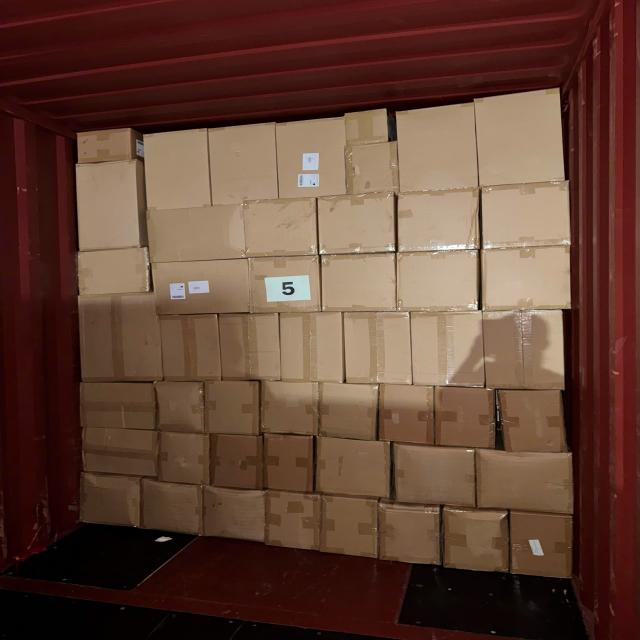Carton: (476, 88, 564, 187), (80, 295, 162, 387), (396, 102, 476, 192), (484, 311, 568, 393), (476, 451, 576, 515), (484, 183, 576, 250), (75, 162, 141, 252), (479, 248, 572, 310), (410, 314, 484, 391), (277, 117, 346, 199), (148, 206, 247, 263), (152, 259, 252, 315), (210, 123, 276, 206), (393, 444, 477, 509), (147, 127, 211, 209), (397, 190, 481, 252), (342, 314, 412, 388), (397, 251, 481, 312), (278, 314, 343, 386), (320, 195, 398, 255), (317, 437, 392, 499), (320, 254, 396, 314), (444, 506, 512, 573), (508, 513, 573, 583), (499, 390, 567, 454), (248, 255, 320, 315), (244, 198, 318, 256), (162, 316, 224, 385), (218, 315, 278, 385), (378, 506, 442, 569), (80, 426, 157, 477), (323, 493, 382, 559), (433, 388, 495, 450), (200, 484, 264, 544), (82, 380, 160, 429), (378, 384, 436, 447), (321, 383, 381, 442), (143, 478, 206, 534), (79, 248, 152, 295), (82, 472, 143, 528), (264, 493, 320, 554), (260, 381, 319, 437), (203, 381, 260, 436), (264, 435, 315, 496), (210, 436, 264, 491), (156, 429, 209, 483), (346, 145, 397, 198), (154, 382, 204, 436), (76, 128, 134, 164), (343, 106, 390, 147)
